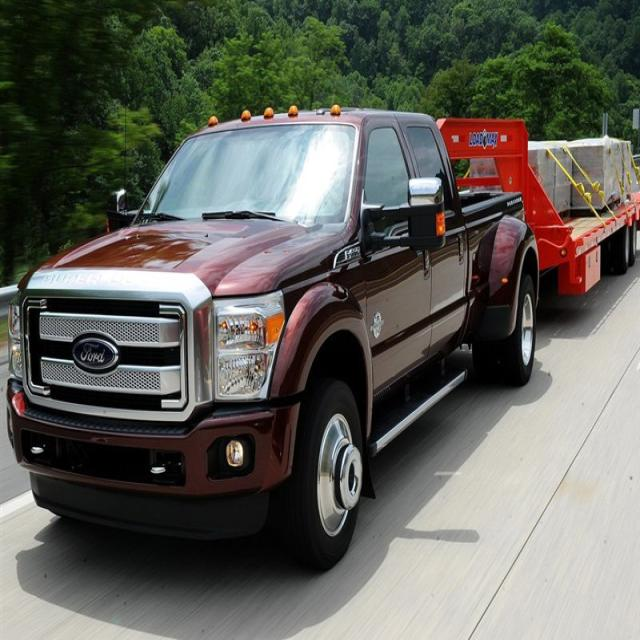door: (362, 119, 433, 422)
front_bumper: (6, 386, 300, 541)
front_glass: (134, 122, 358, 229)
front_left_side_light: (207, 284, 288, 411)
front_left_side_mirror: (403, 174, 448, 254)
front_right_side_light: (8, 290, 32, 388)
front_right_side_mirror: (106, 189, 138, 237)
wheel: (285, 376, 367, 570), (475, 276, 537, 381)
